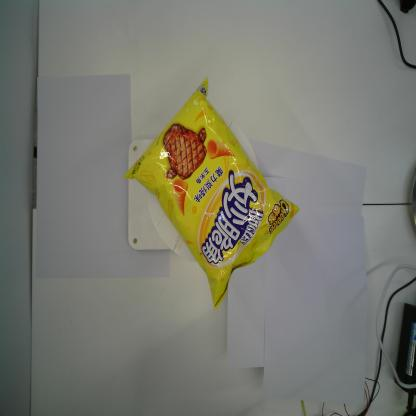Puffed Food: (122, 76, 302, 313)
